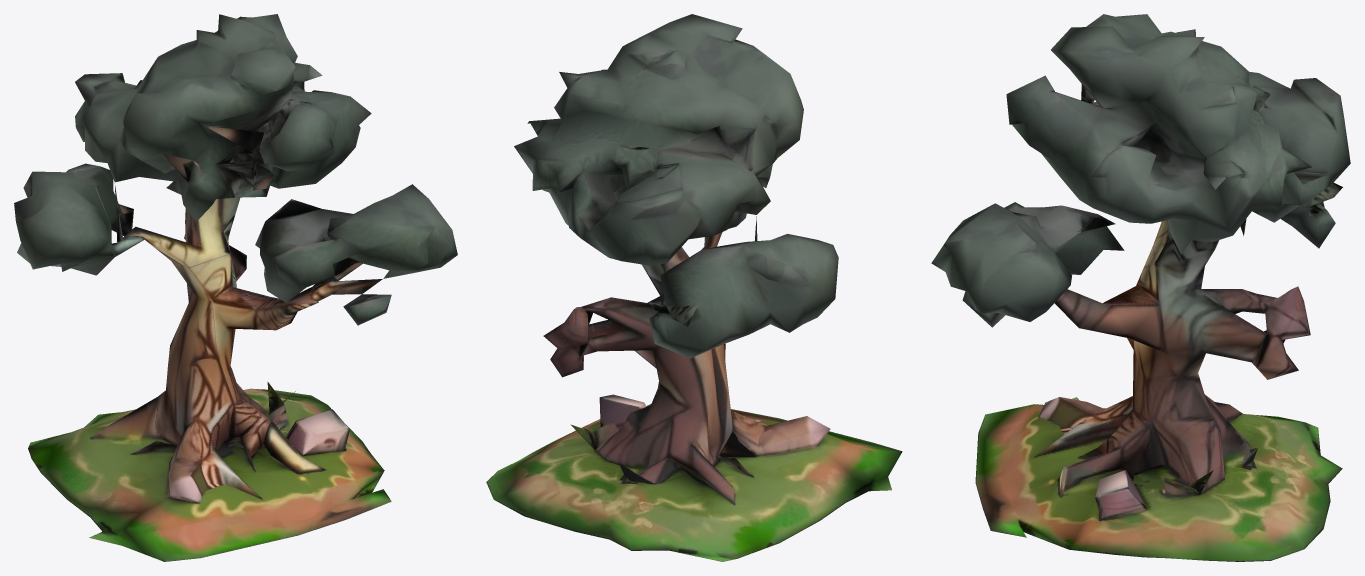
File: tree3.glb
3 views of the same model, side by side, from view 1: azimuth 30°, elevation 25°; view 2: azimuth 150°, elevation 25°; view 3: azimuth 270°, elevation 25° (orthographic). The views are drawn at different scales.
Size of the model in its own units: 1.55 by 2 by 1.64.
Materials: 1 (1 with a texture image).
